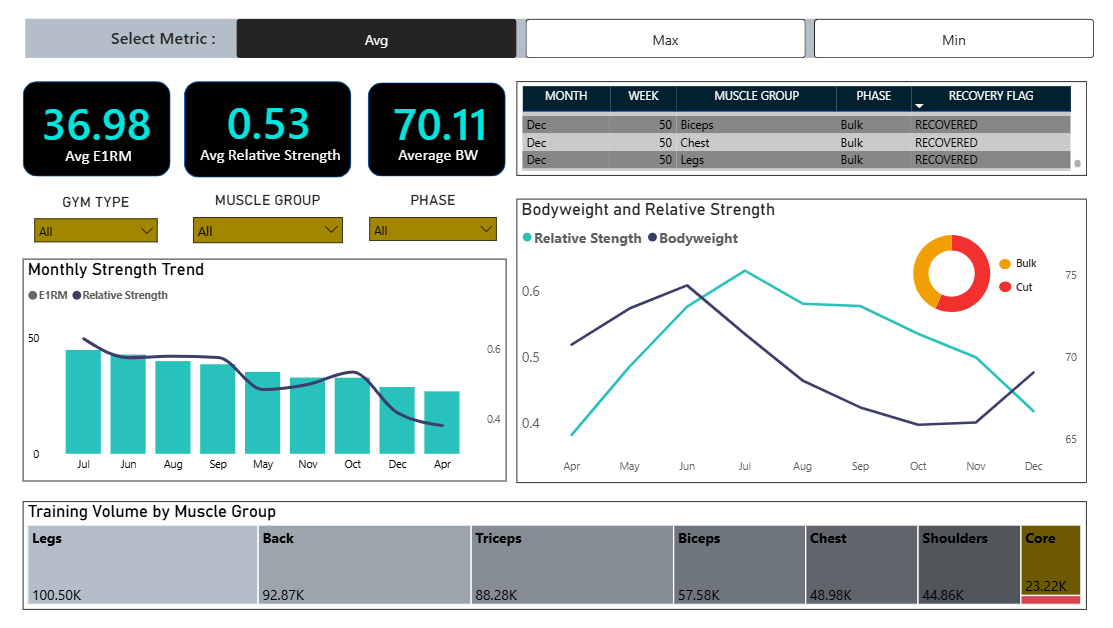

The dashboard page shown, as its layout file describes it:
{"tool":"powerbi","page":{"name":"Page 1","canvas":[1280,720],"ordinal":0},"visuals":[{"type":"slicer","title":"MUSCLE GROUP","fields":{"Values":["weekly_workout.MUSCLE_GROUP"]},"box":[217.5,218.8,191.2,75],"z":0},{"type":"tableEx","fields":{"Values":["weekly_workout.MONTH","weekly_workout.WEEK","weekly_workout.MUSCLE_GROUP","weekly_workout.PHASE","weekly_workout.RECOVERY_FLAG"]},"box":[596.7,93.3,651.7,108.3],"z":1000},{"type":"shape","box":[35,21.3,1213.3,45],"z":2000},{"type":"shape","title":"Shape kp","box":[33.3,93.3,168.9,108.9],"z":3000},{"type":"cardVisual","title":"Card kp1 avg","fields":{"Data":["Avg(weekly_workout.AVG_E1RM)"]},"box":[25,100.8,276.7,100.8],"z":4000},{"type":"shape","title":"Shape kp","box":[217.5,92.5,191.2,110],"z":5000},{"type":"cardVisual","title":"card kp2 avg","fields":{"Data":["Avg(weekly_workout.AVG_RELATIVE_STRENGTH)"]},"box":[236.9,83.1,243.1,118.5],"z":6000},{"type":"textbox","title":"Text box Kpi3 avg","box":[192.5,160,250.8,65.8],"z":7000},{"type":"shape","title":"Shape kp","box":[427.5,93.8,157.5,107.5],"z":8000},{"type":"cardVisual","title":"card kp3 avg","fields":{"Data":["Avg(feature_engineered_dataset.BODYWEIGHT)"]},"box":[427.8,101.1,276.7,100],"z":9000},{"type":"slicer","title":"PHASE","fields":{"Values":["weekly_workout.PHASE"]},"box":[418.8,218.8,166.2,75],"z":10000},{"type":"slicer","title":"GYM TYPE","fields":{"Values":["weekly_workout.GYM_TYPE"]},"box":[35,220,161.2,73.8],"z":11000},{"type":"treemap","title":"Training Volume by Muscle Group","fields":{"Group":["weekly_workout.MUSCLE_GROUP"],"Values":["Sum(weekly_workout.TOTAL_VOLUME)"]},"box":[32.9,572.9,1215.7,124.3],"z":12000},{"type":"lineClusteredColumnComboChart","title":"Monthly Strength Trend","fields":{"Y2":["Avg(weekly_workout.AVG_RELATIVE_STRENGTH)"],"Y":["Avg(weekly_workout.AVG_E1RM)"],"Category":["feature_engineered_dataset.MONTH"]},"box":[32.9,295.7,552.9,254.3],"z":13000},{"type":"lineChart","title":"Bodyweight and Relative Strength","fields":{"Y":["Avg(weekly_workout.AVG_RELATIVE_STRENGTH)"],"Y2":["Avg(feature_engineered_dataset.BODYWEIGHT)"],"Category":["feature_engineered_dataset.MONTH"]},"box":[596.7,226.7,651.7,325],"z":14000},{"type":"bookmarkNavigator","box":[276.7,21.3,980,45],"z":15000},{"type":"donutChart","title":"Donut PHASE","fields":{"Category":["weekly_workout.PHASE"],"Y":["CountNonNull(weekly_workout.WEEK)"]},"box":[981.7,253.5,226.4,120],"z":16000},{"type":"textbox","box":[129,25,159,41],"z":17000},{"type":"textbox","title":"Text box Kpi1 avg","box":[25.1,160.8,183.8,65],"z":18000},{"type":"textbox","title":"Text box Kpi2 avg","box":[443.7,160.3,132.9,65.7],"z":19000},{"type":"shape","title":"D1 Shape","box":[1148.8,295.4,13.7,12.1],"z":20000},{"type":"shape","title":"D2 Shape","box":[1148.5,321.3,14.4,12.5],"z":21000},{"type":"textbox","title":"Donut Text box","box":[1162.9,313.2,102.5,55.6],"z":22000},{"type":"textbox","title":"Donut Text box","box":[1162.9,286.3,102.5,55.6],"z":23000}]}

Visuals, with their boxes in screenshot pixels (x1, y1, x2, y2), scaled from the page's 1280x720 canvas onto the 1113x628 screenshot:
"MUSCLE GROUP" slicer: 189 191 355 256
tableEx - weekly_workout.MONTH x weekly_workout.WEEK: 519 81 1086 176
shape: 30 19 1085 58
"Shape kp" shape: 29 81 176 176
"Card kp1 avg" cardVisual: 22 88 262 176
"Shape kp" shape: 189 81 355 177
"card kp2 avg" cardVisual: 206 72 417 176
"Text box Kpi3 avg" textbox: 167 140 385 197
"Shape kp" shape: 372 82 509 176
"card kp3 avg" cardVisual: 372 88 613 175
"PHASE" slicer: 364 191 509 256
"GYM TYPE" slicer: 30 192 171 256
"Training Volume by Muscle Group" treemap: 29 500 1086 608
"Monthly Strength Trend" lineClusteredColumnComboChart: 29 258 509 480
"Bodyweight and Relative Strength" lineChart: 519 198 1086 481
bookmarkNavigator: 241 19 1093 58
"Donut PHASE" donutChart: 854 221 1050 326
textbox: 112 22 250 58
"Text box Kpi1 avg" textbox: 22 140 182 197
"Text box Kpi2 avg" textbox: 386 140 501 197
"D1 Shape" shape: 999 258 1011 268
"D2 Shape" shape: 999 280 1011 291
"Donut Text box" textbox: 1011 273 1100 322
"Donut Text box" textbox: 1011 250 1100 298
